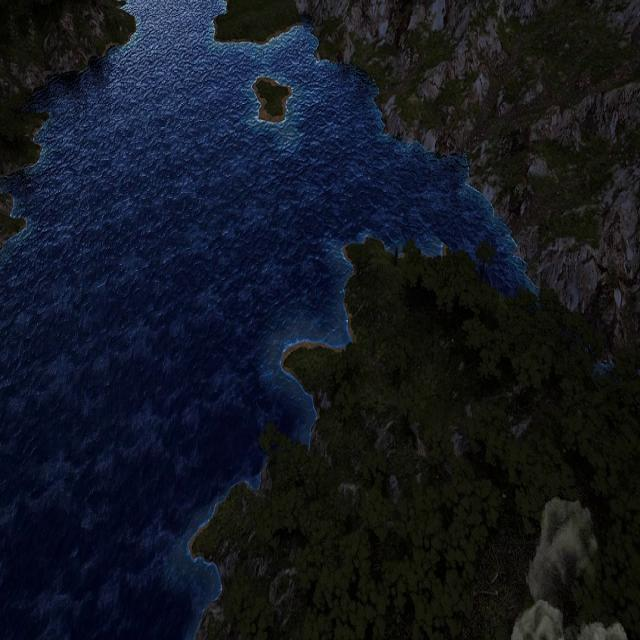smoke: (509, 496, 598, 639)
